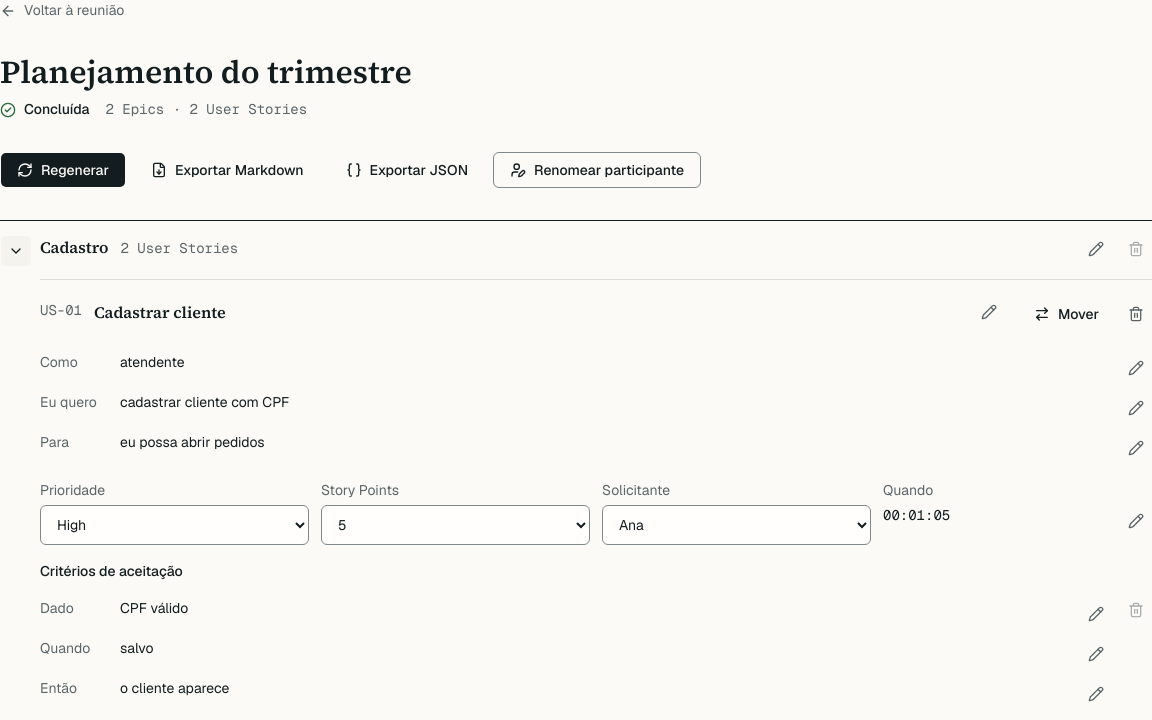
Test: diálogo usa DialogSurface opaco, sem vidro (ADR-0024)
The width and height of the screenshot is (1152, 720).
Click the button "Regenerar".
click(63, 170)  # box [0,152,126,188]
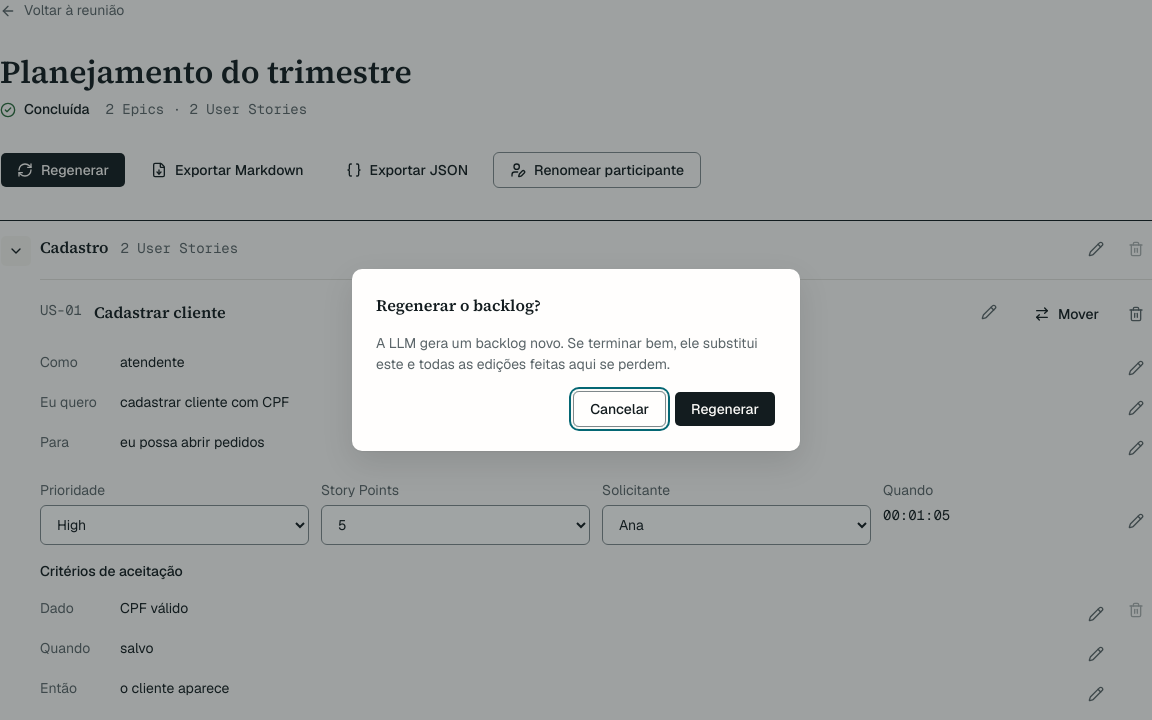
expect the number of dialogs is 1: met, box [352,269,800,451]
